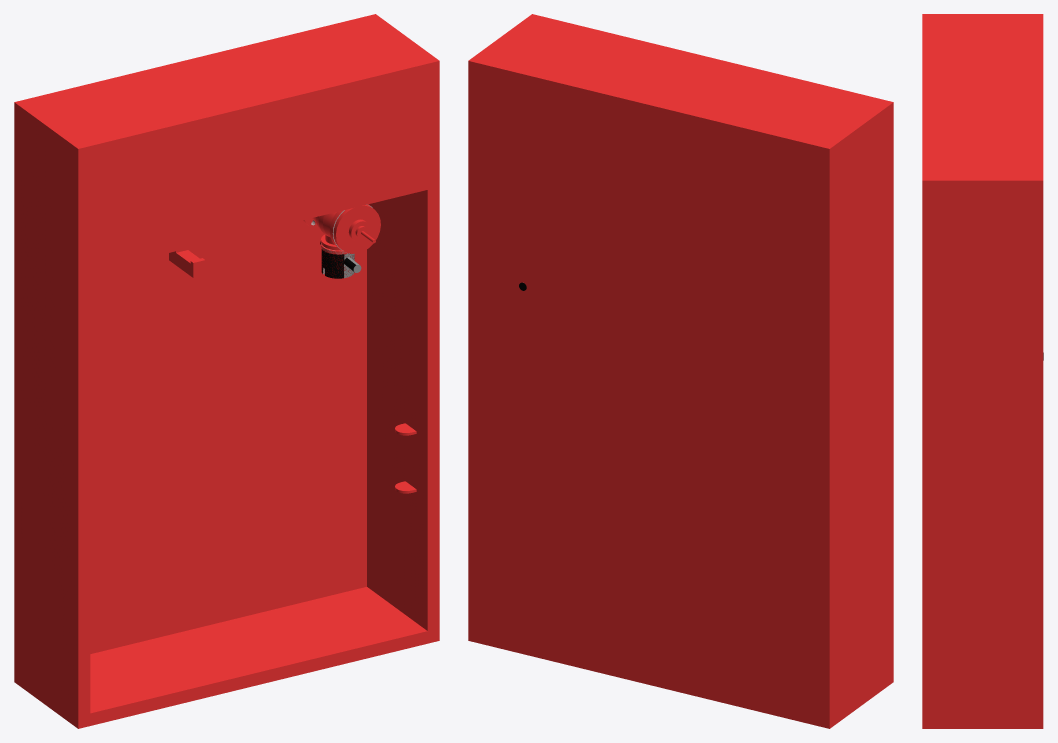
Rendered from FireCabinetBase.dae.
The picture shows the model from 3 angles, left to right: view 1: azimuth 30°, elevation 25°; view 2: azimuth 150°, elevation 25°; view 3: azimuth 270°, elevation 25°; orthographic projection. The views are drawn at different scales.
Parts seen in each view (by area): view 1: group_9 (×2), group_15, group_10; view 2: group_9; view 3: group_9.
Boxes of the visible parts, box(x1,y1,x2,y2) form: group_9 (×2): box(14, 14, 439, 728); group_15: box(333, 205, 380, 253); group_10: box(395, 423, 416, 493); group_9: box(468, 14, 893, 728); group_9: box(922, 14, 1043, 728).
Bounding box in the file's own units: 29.53 × 9.08 × 45.28.
